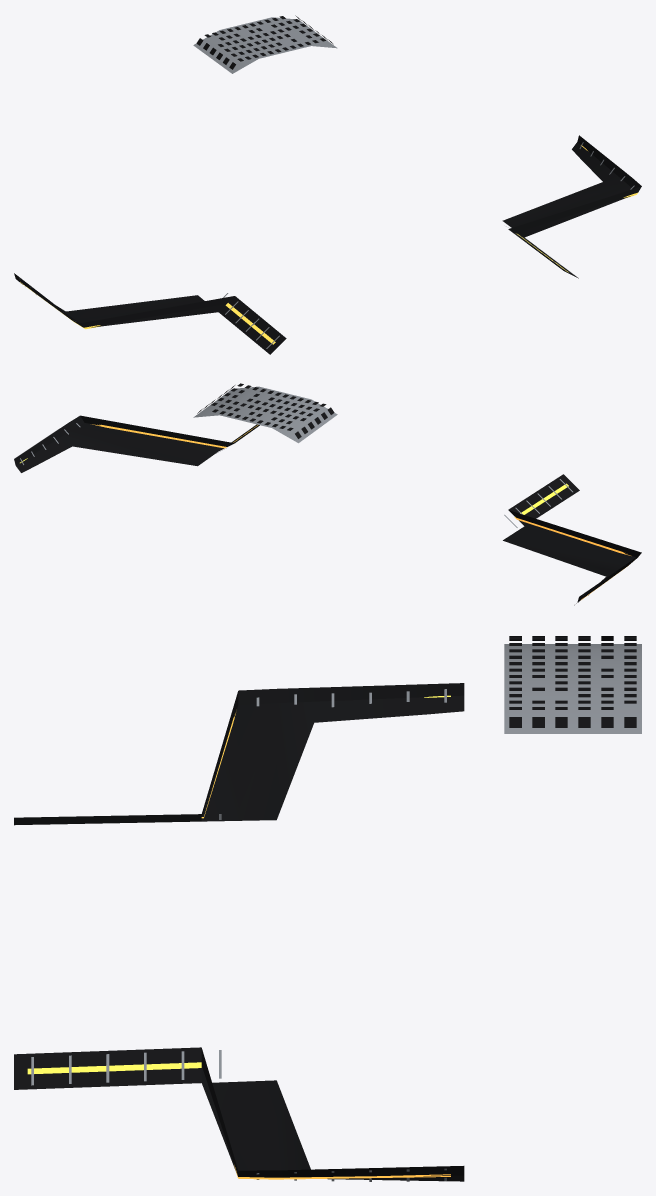
The model's file is nomad_cooling_lg.fbx.
3 views of the same model, one above another, from view 1: azimuth 30°, elevation 25°; view 2: azimuth 150°, elevation 25°; view 3: azimuth 270°, elevation 25° (orthographic). The views are drawn at different scales.
Visible parts, largest first — view 1: Cooling_Channel; view 2: Cooling_Channel; view 3: Cooling_Channel.
Part boxes in pixels (x1,y1,x2,y2): Cooling_Channel: (14, 15, 641, 354); Cooling_Channel: (14, 383, 641, 605); Cooling_Channel: (14, 636, 641, 1181).
Bounding box in the file's own units: 248 × 68.07 × 136.
